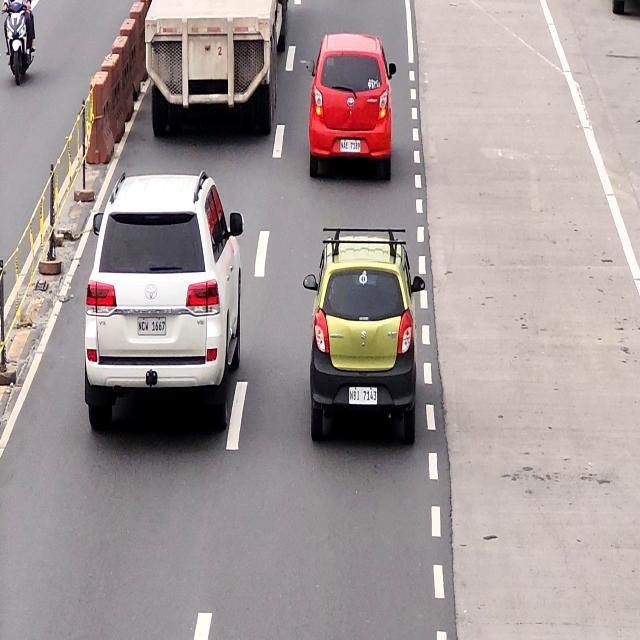Car: (87, 173, 240, 430), (312, 232, 416, 444), (310, 35, 391, 185)
License-Plate: (348, 384, 380, 408), (136, 316, 168, 338), (338, 137, 362, 157)
Truck: (144, 0, 281, 135)
